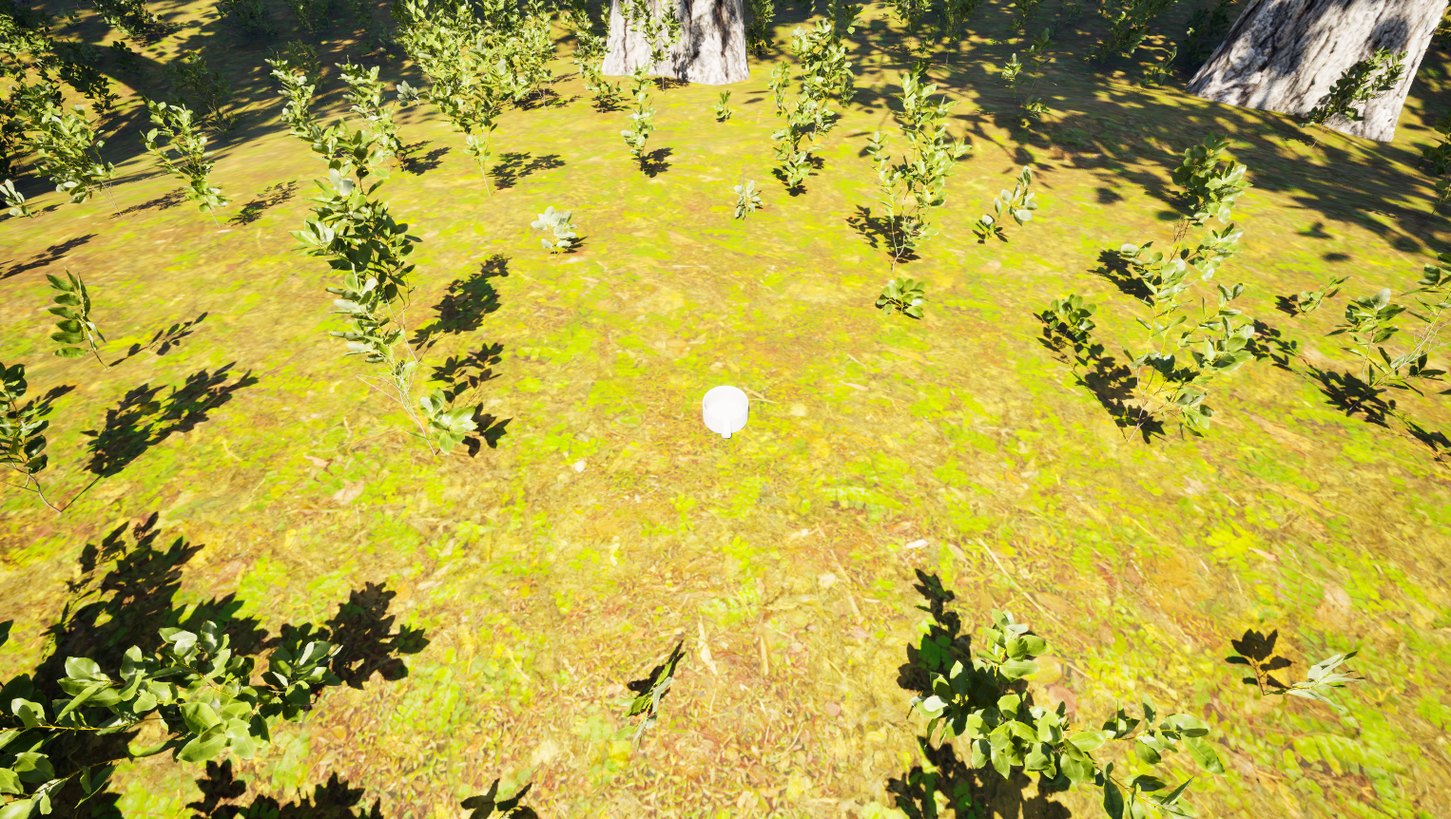Teacup: (690, 379, 757, 446)
